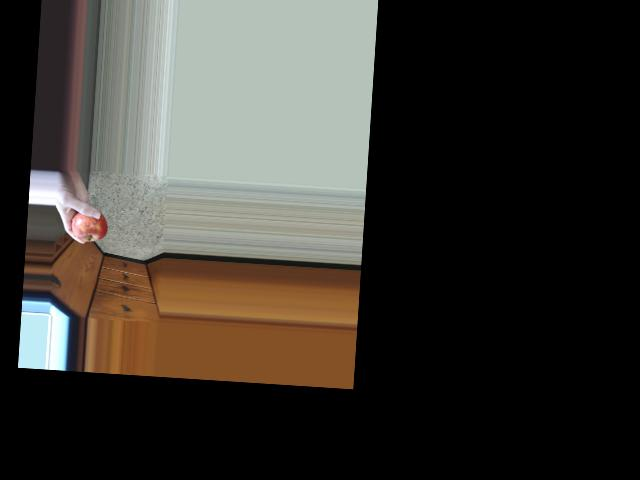apple: (65, 201, 109, 245)
